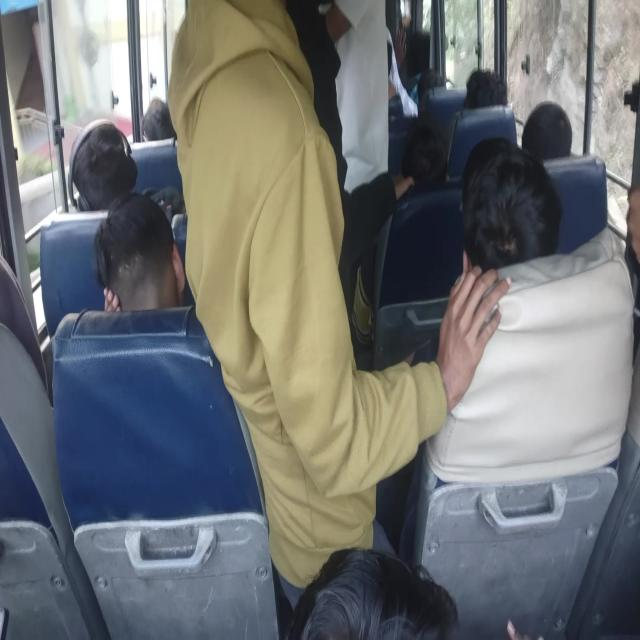person: (162, 0, 308, 179), (310, 0, 410, 159), (92, 210, 190, 347), (0, 256, 52, 499), (52, 115, 142, 219), (466, 149, 534, 280), (397, 138, 499, 200), (606, 84, 640, 240), (522, 96, 582, 164), (130, 91, 178, 156), (466, 60, 511, 114), (429, 57, 464, 100)
